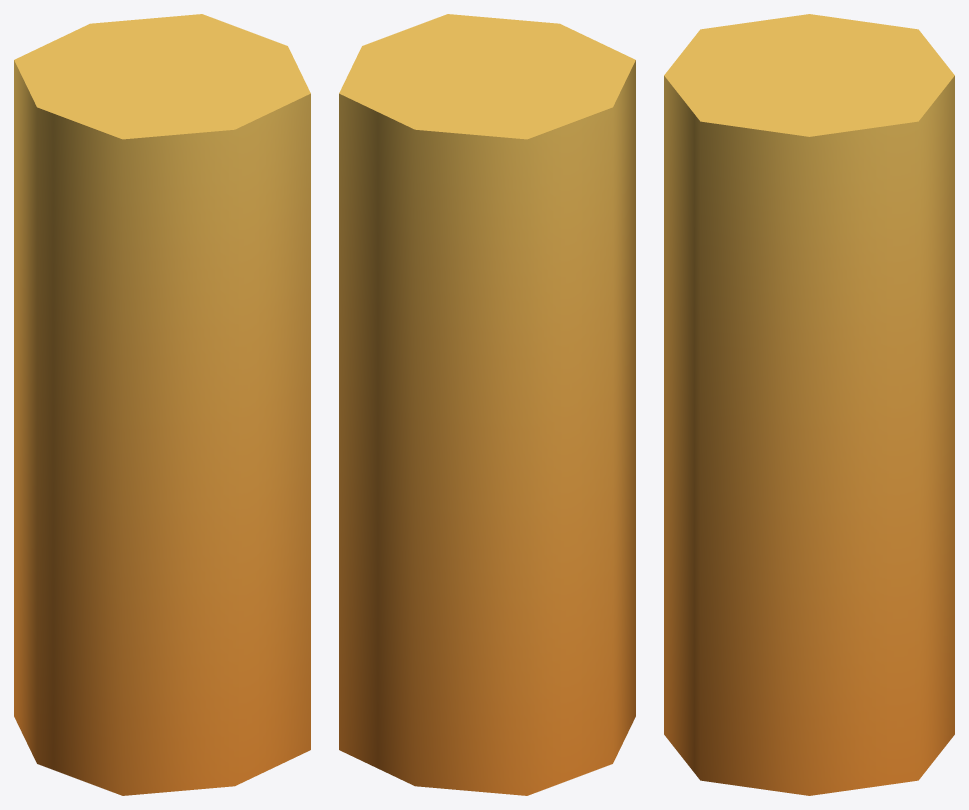
The model's file is bullet-foam.glb.
3 renders of one model, left to right at view 1: azimuth 30°, elevation 25°; view 2: azimuth 150°, elevation 25°; view 3: azimuth 270°, elevation 25°, orthographic.
Visible parts, largest first — view 1: bullet-foam; view 2: bullet-foam; view 3: bullet-foam.
Part boxes in pixels (bbox=[...]): bullet-foam: bbox=[14, 14, 310, 795]; bullet-foam: bbox=[339, 14, 635, 795]; bullet-foam: bbox=[664, 14, 954, 795].
Bounding box in the file's own units: 0.02 × 0.05 × 0.02.
1 material, 1 textured.
